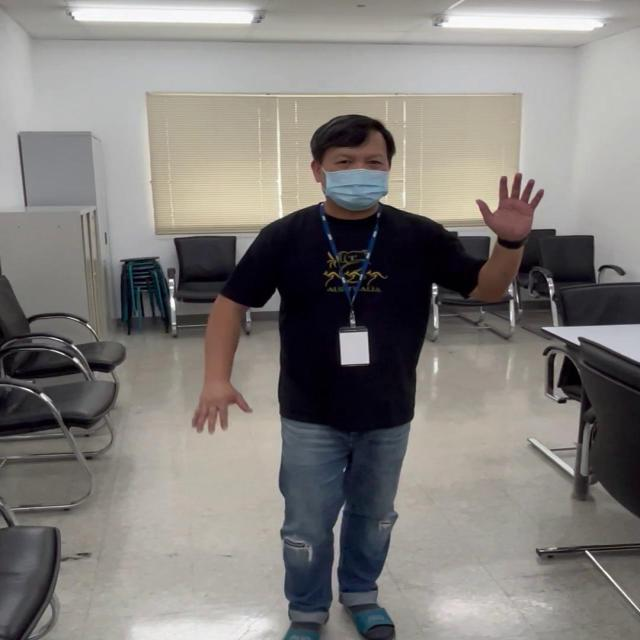bare_hand: (473, 168, 545, 239), (190, 376, 246, 435)
